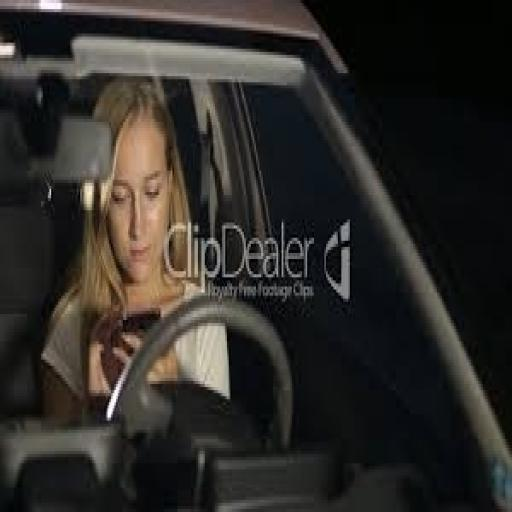texting: (38, 73, 232, 427)
